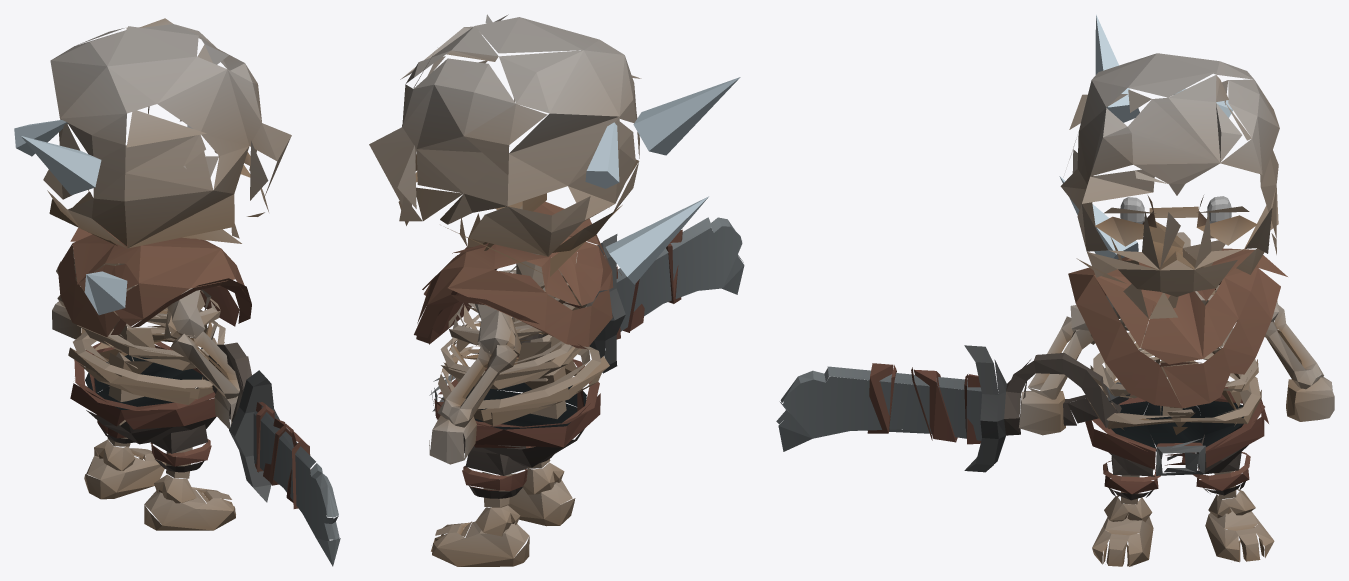
The model's file is grunt.glb.
3 views of the same model, side by side, from view 1: azimuth 30°, elevation 25°; view 2: azimuth 150°, elevation 25°; view 3: azimuth 270°, elevation 25° (orthographic). The views are drawn at different scales.
Visible parts, largest first — view 1: grunt; view 2: grunt; view 3: grunt.
Boxes of the visible parts, <box> form: grunt: <box>14,18,340,566</box>; grunt: <box>369,14,744,566</box>; grunt: <box>776,14,1334,566</box>.
Size of the model in its own units: 1.31 by 2.09 by 2.25.
